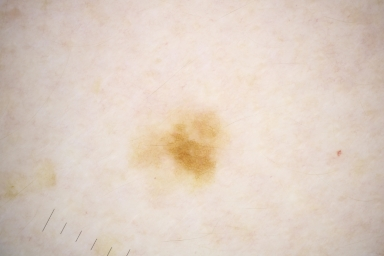melanoma: (171, 121, 216, 181)
